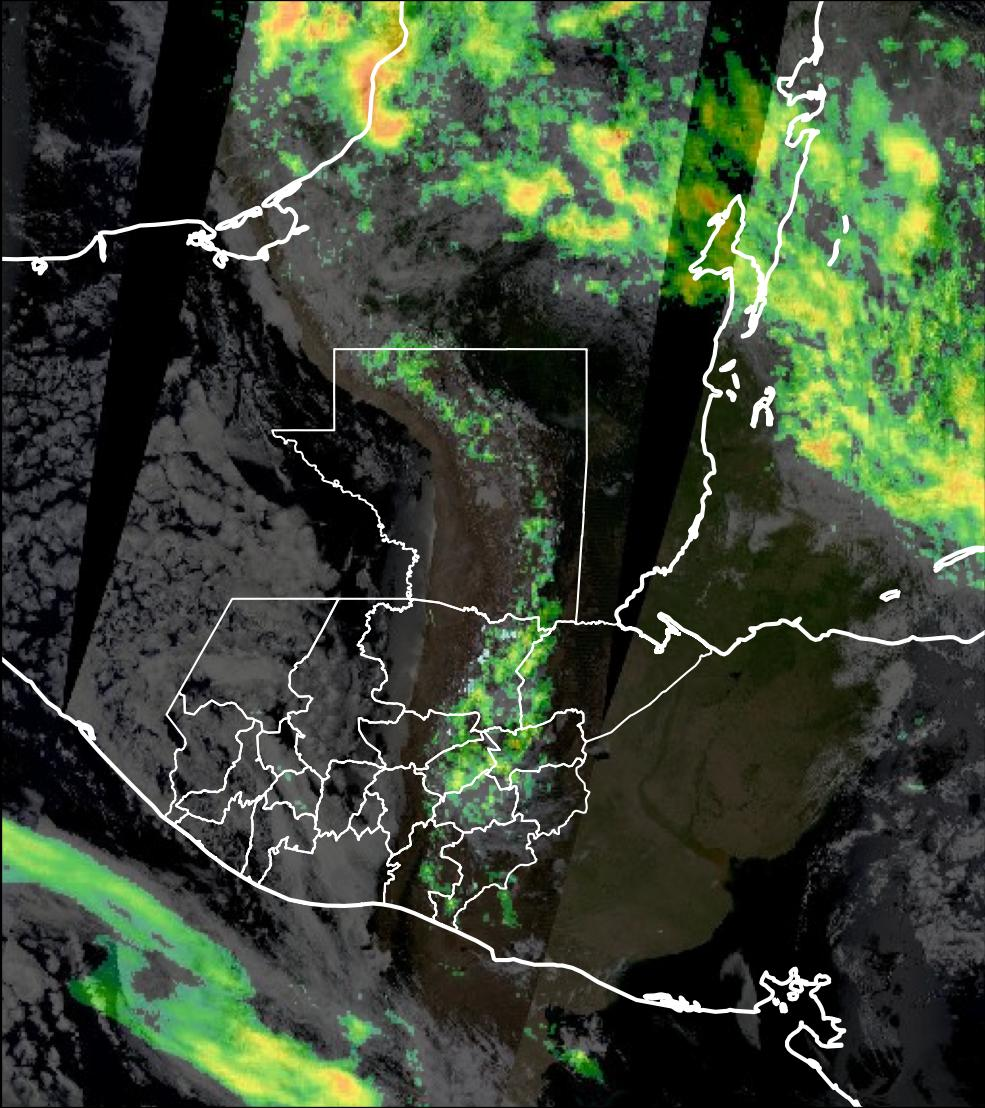precipitacion: (266, 5, 357, 54)
